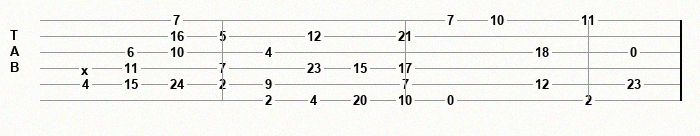0: (447, 93, 458, 107), (630, 45, 641, 59)
10: (170, 45, 188, 59), (398, 93, 416, 107), (490, 13, 508, 27)
11: (124, 61, 142, 75), (581, 13, 599, 27)
12: (307, 29, 325, 43), (535, 77, 553, 91)
15: (124, 77, 142, 91), (353, 61, 371, 75)
16: (170, 29, 188, 43)
17: (398, 61, 416, 75)
18: (535, 45, 553, 59)
2: (219, 77, 230, 91), (265, 93, 276, 107), (585, 93, 596, 107)
20: (353, 93, 371, 107)
21: (398, 29, 416, 43)
23: (307, 61, 325, 75), (627, 77, 645, 91)
24: (170, 77, 188, 91)
4: (82, 77, 93, 91), (265, 45, 276, 59), (310, 93, 321, 107)
5: (219, 29, 230, 43)
6: (127, 45, 138, 59)
7: (173, 13, 184, 27), (219, 61, 230, 75), (402, 77, 413, 91), (447, 13, 458, 27)
9: (265, 77, 276, 91)
x: (81, 63, 93, 74)
